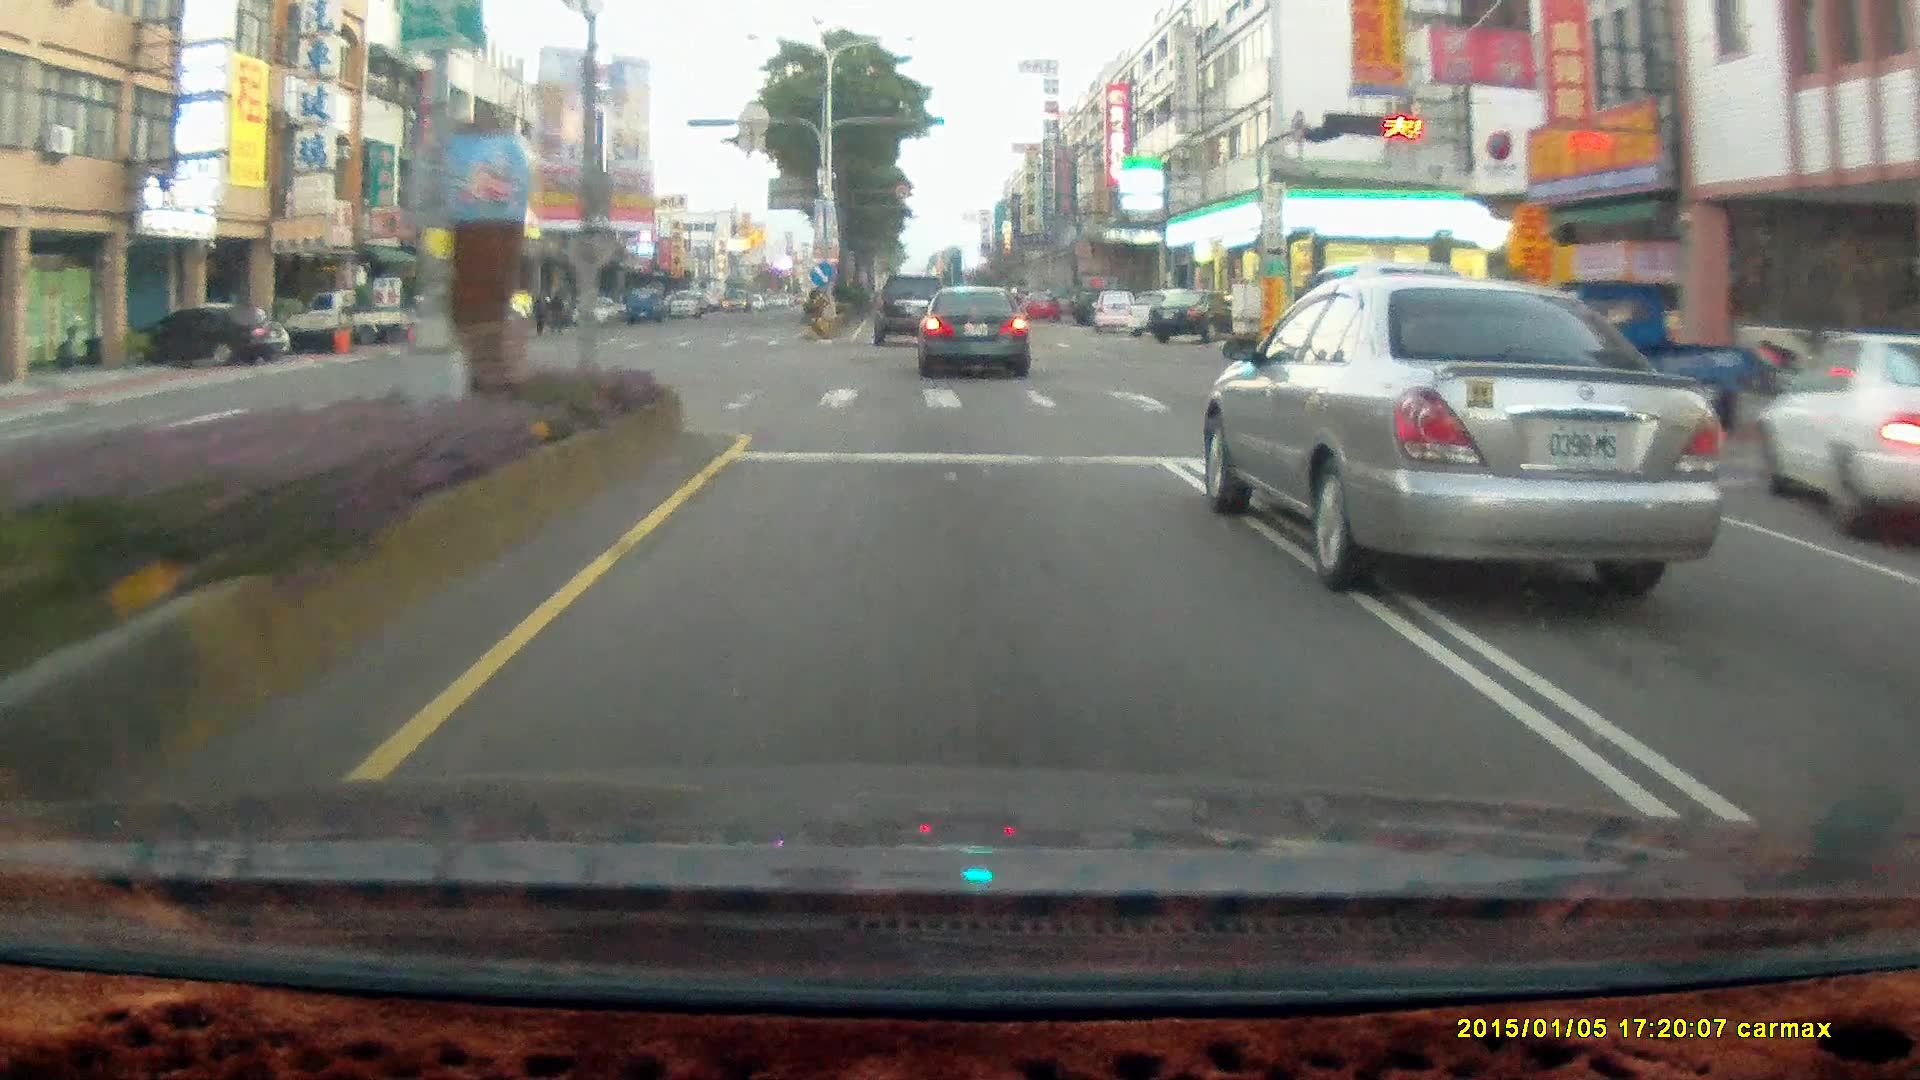pedestrian: (546, 288, 566, 337), (526, 294, 547, 339)
vehicle: (1198, 271, 1721, 583), (1506, 281, 1766, 448), (1493, 277, 1753, 443), (1752, 327, 1920, 544), (1758, 329, 1920, 547), (1292, 262, 1509, 408), (917, 283, 1029, 377), (920, 289, 1032, 381), (117, 304, 286, 363), (279, 289, 417, 351), (150, 304, 290, 365), (293, 291, 420, 357), (875, 271, 957, 348), (1148, 285, 1249, 339), (875, 272, 951, 343), (1153, 289, 1237, 349), (1124, 289, 1191, 336), (1067, 285, 1124, 325), (1087, 287, 1138, 330), (1093, 290, 1139, 335), (572, 295, 617, 325), (1020, 289, 1056, 320), (628, 290, 661, 321), (662, 289, 694, 314)
